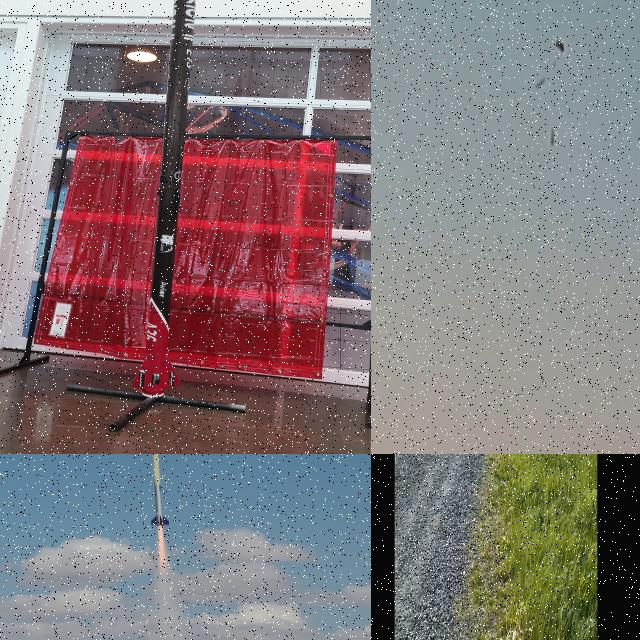Rocket: (133, 0, 197, 395), (150, 454, 169, 525), (550, 127, 555, 147)
